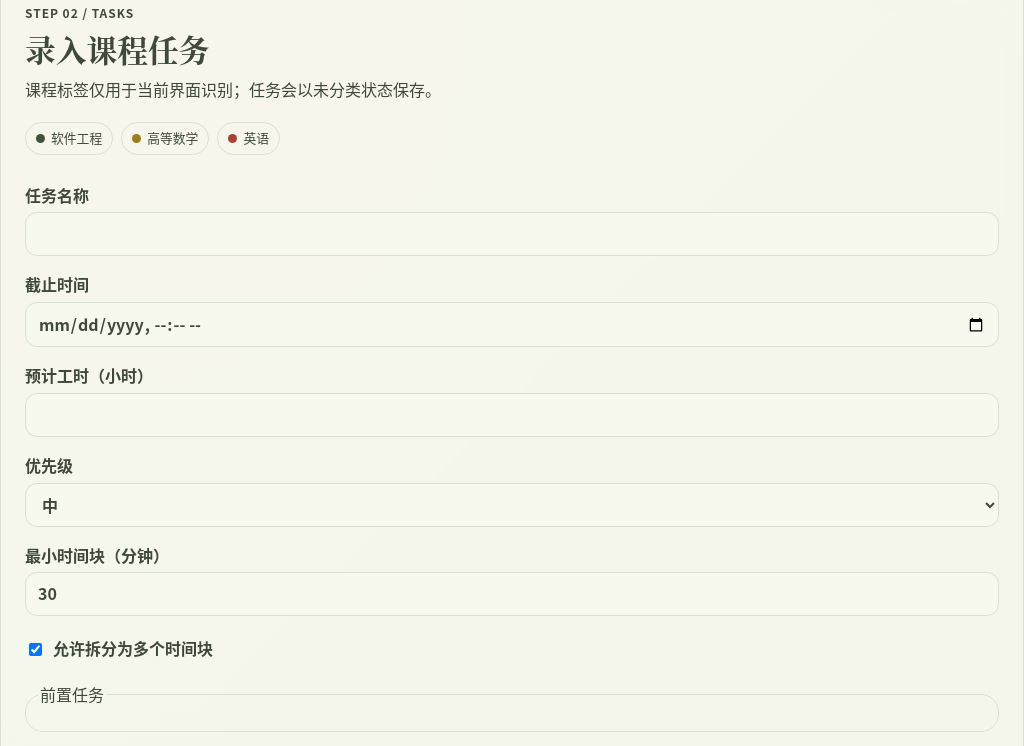
Test case: TaskStep › creates 软件工程大作业 with its deadline, hours, and priority
The image size is (1024, 746).
In the field labelled "任务名称": (512, 234) [25,212,999,256], type "软件工程大作业"
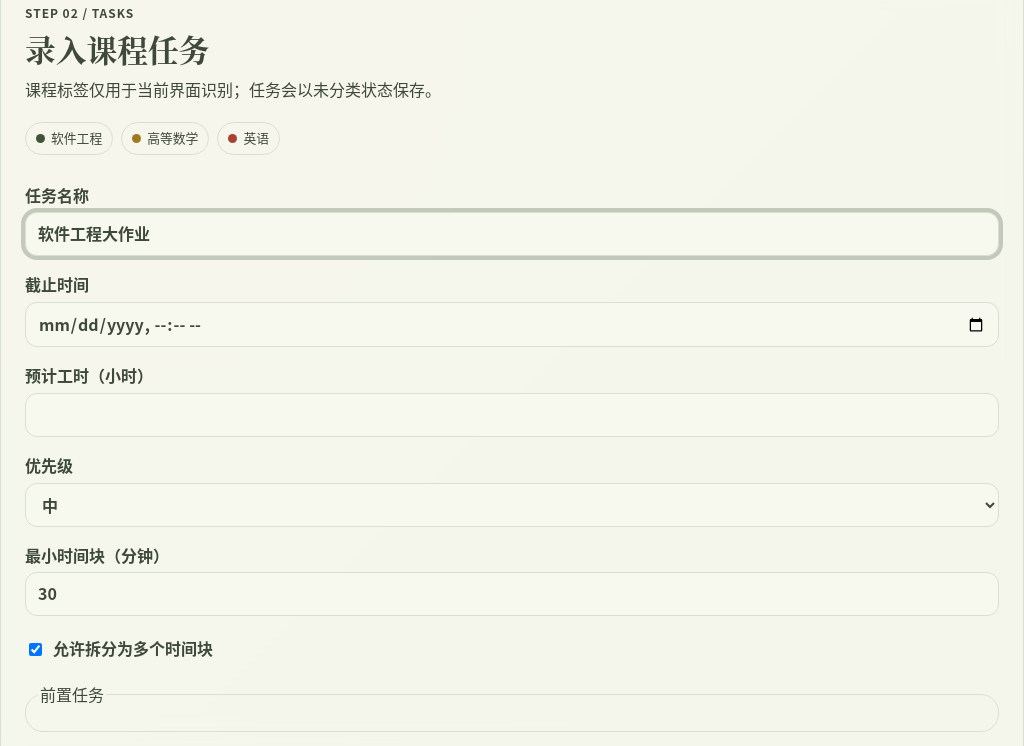
In the field labelled "截止时间": (512, 325) [25,302,999,347], type "2026-08-21T23:59"
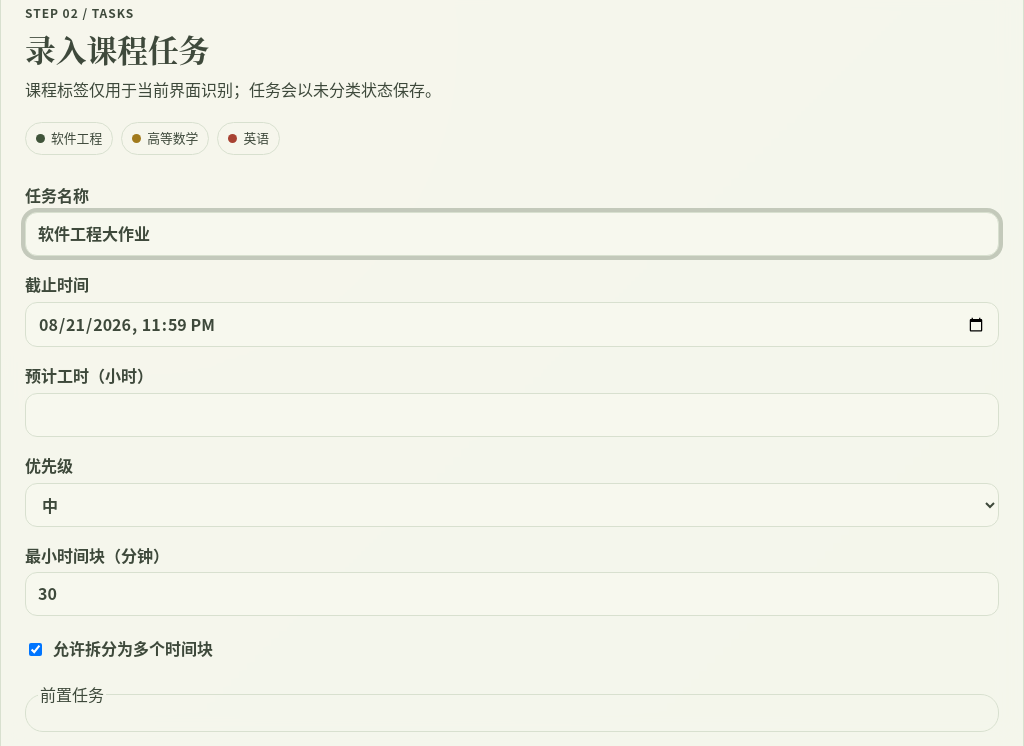
In the number field labelled "预计工时（小时）": (512, 415) [25,393,999,437], type "12"
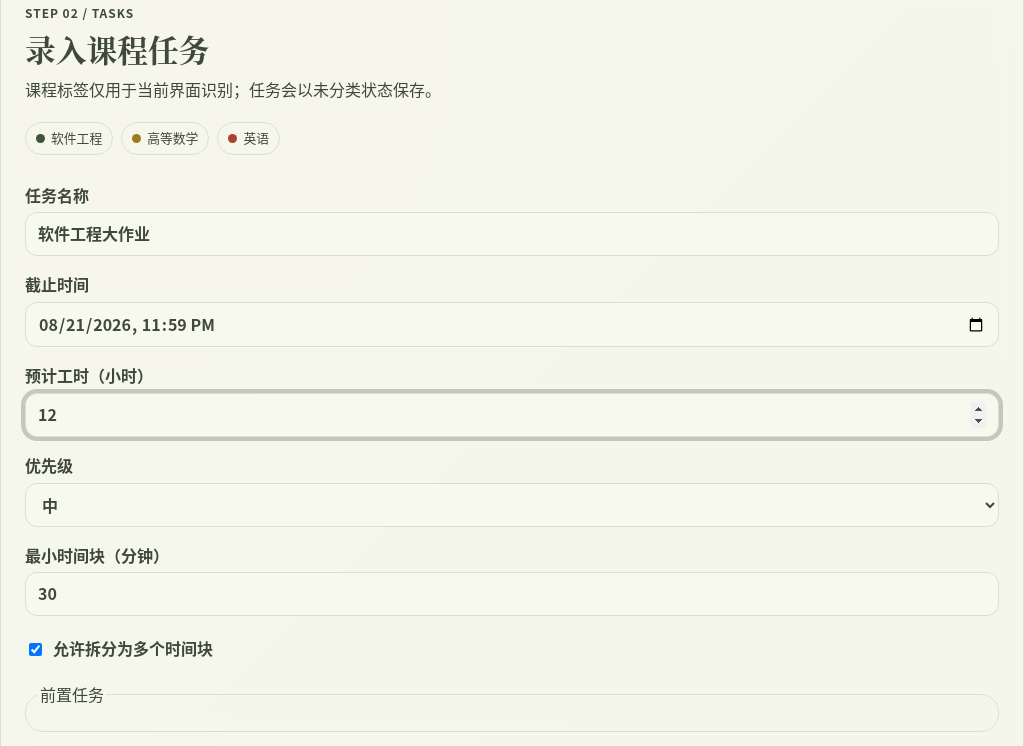
Select "高" in the dropdown labelled "优先级": (512, 505) [25,483,999,527]
(page scrolled)
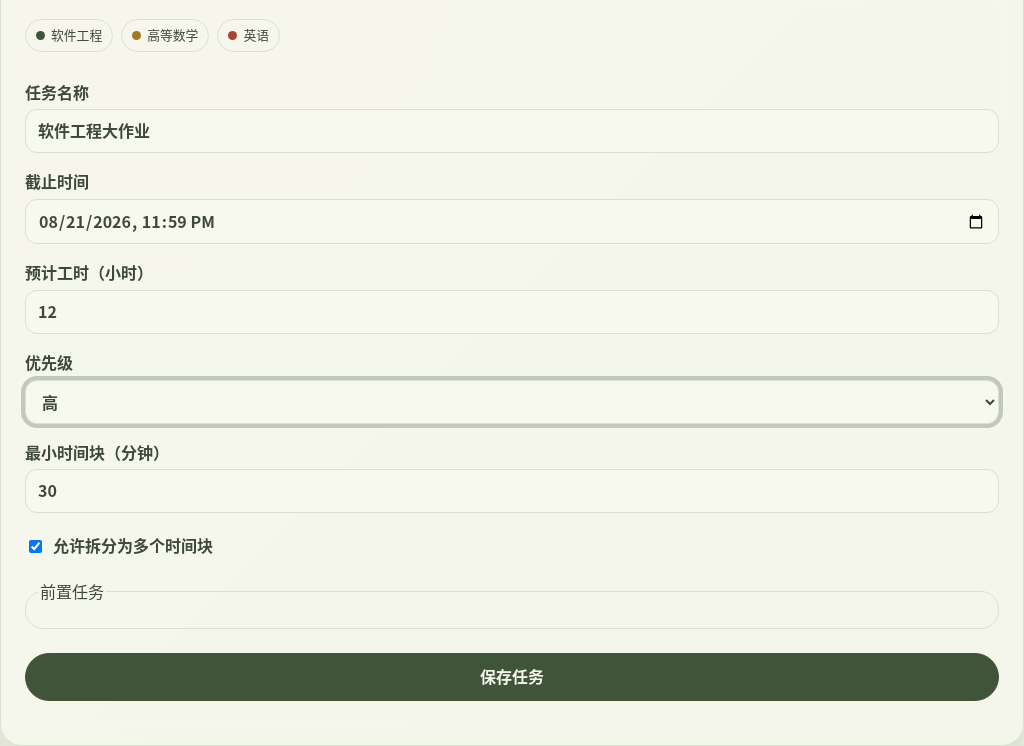
Click the button "保存任务": (512, 677) [25,653,999,701]
(page scrolled)
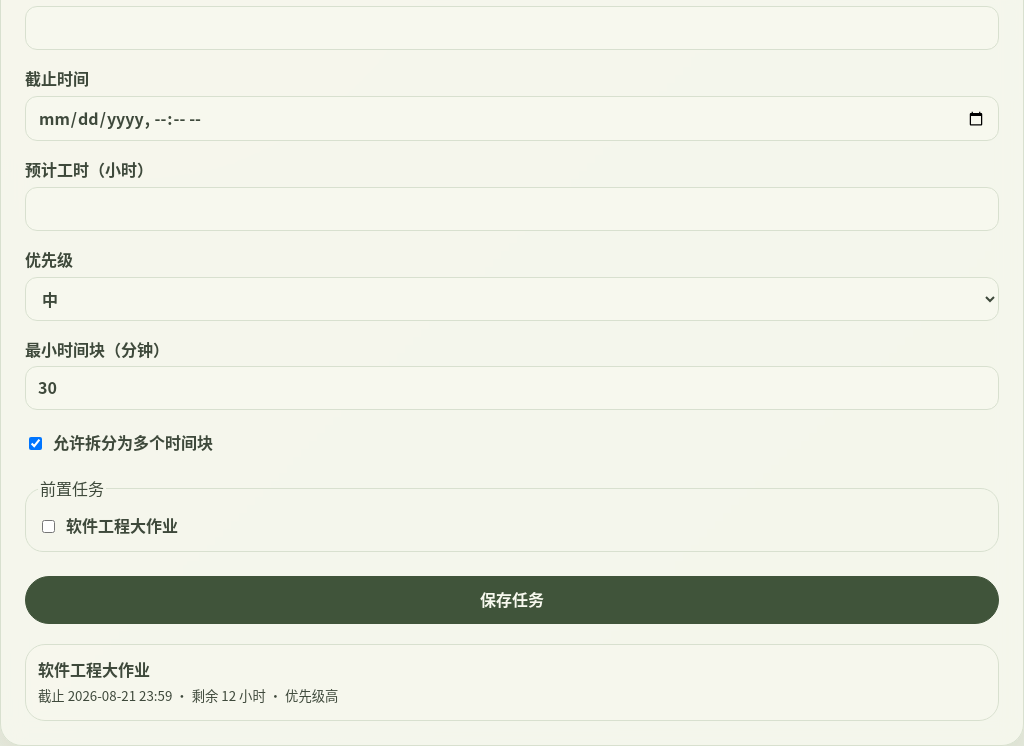
Expected: the text "软件工程大作业" is shown, [38,657,150,681]
Expected: the text "优先级高" is shown, [285,686,338,705]
